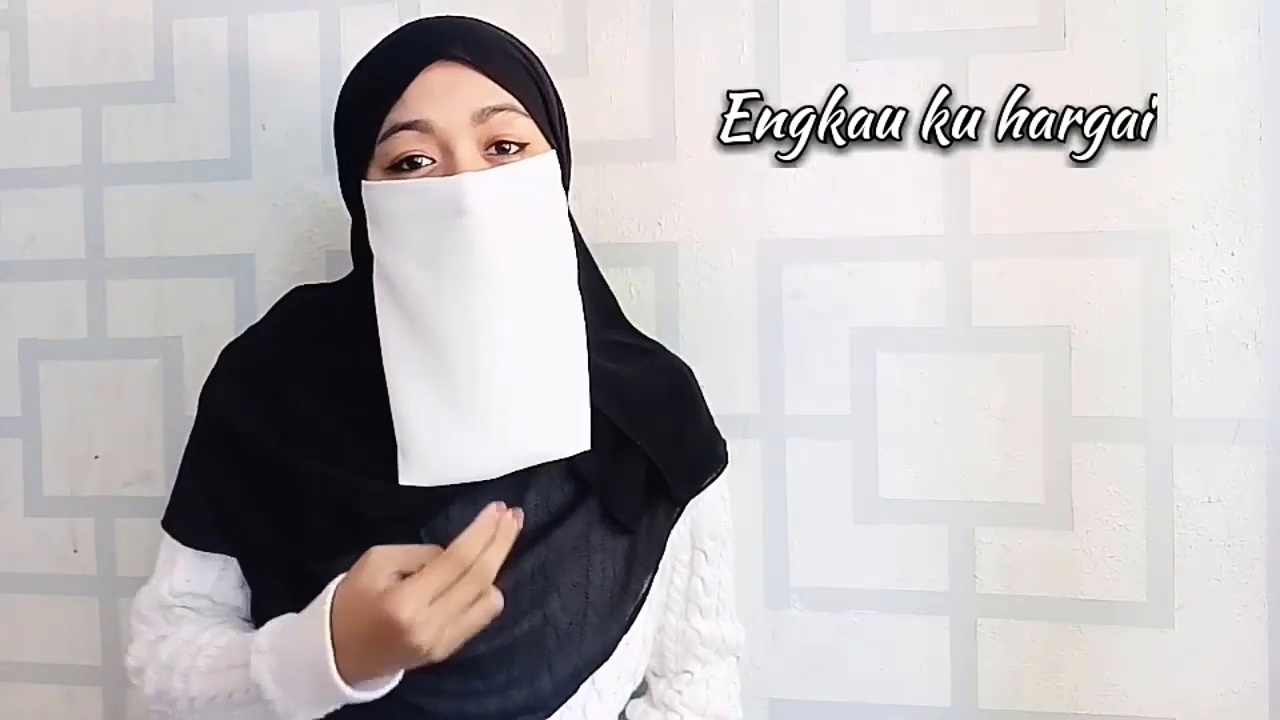AKU: (204, 376, 694, 720)
